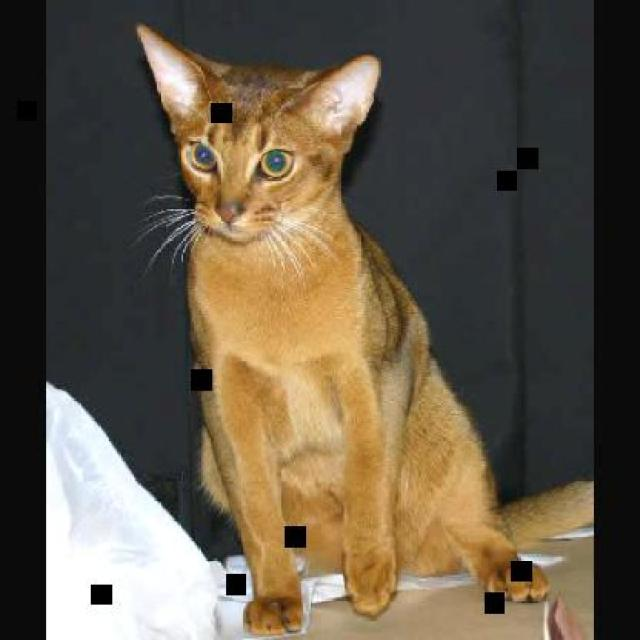unauthorized: (130, 21, 592, 637)
